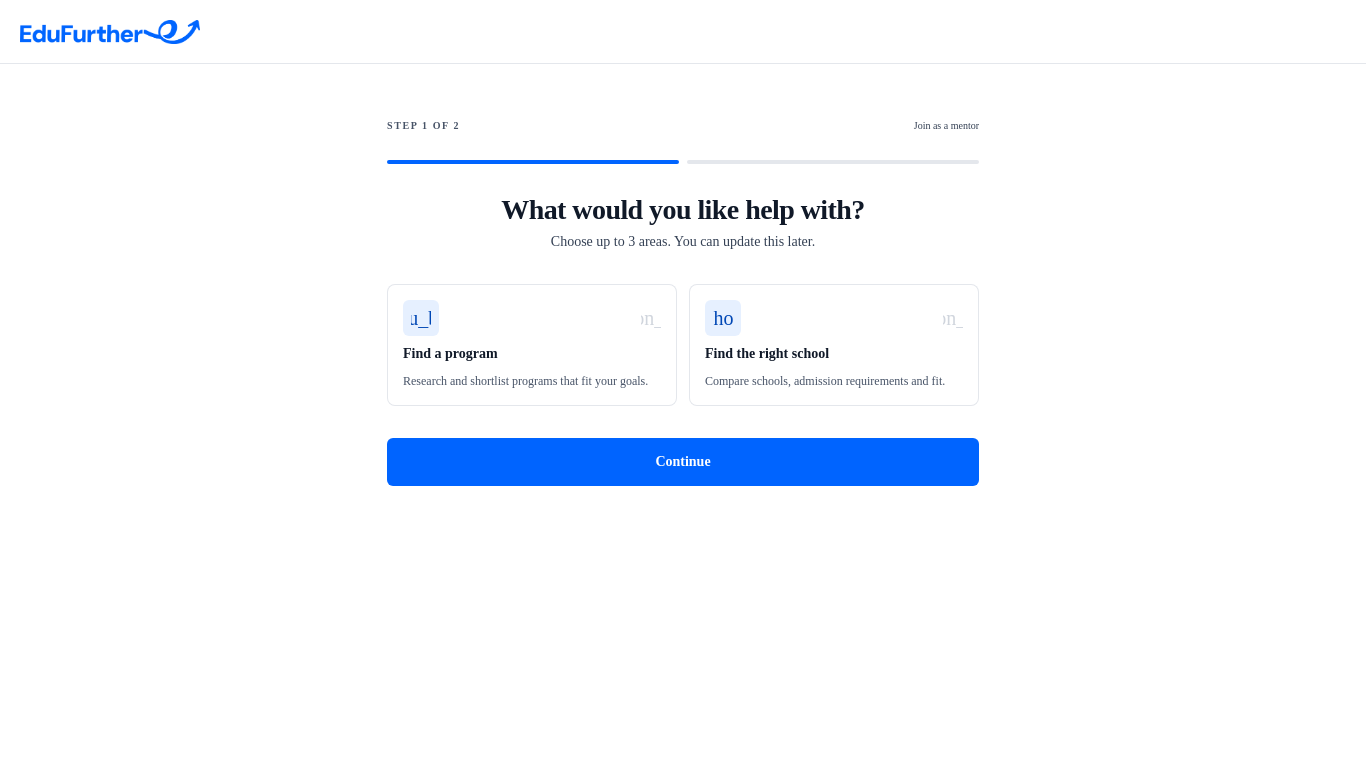
Scenario: OnboardingScreen: "Join as a mentor" on step 1 (owner, 2026-10-20) › gone on step 2, and still gone back on step 1 once step 1 is saved
Click the button "Find a program" at (421, 318), box [387,284,677,406]
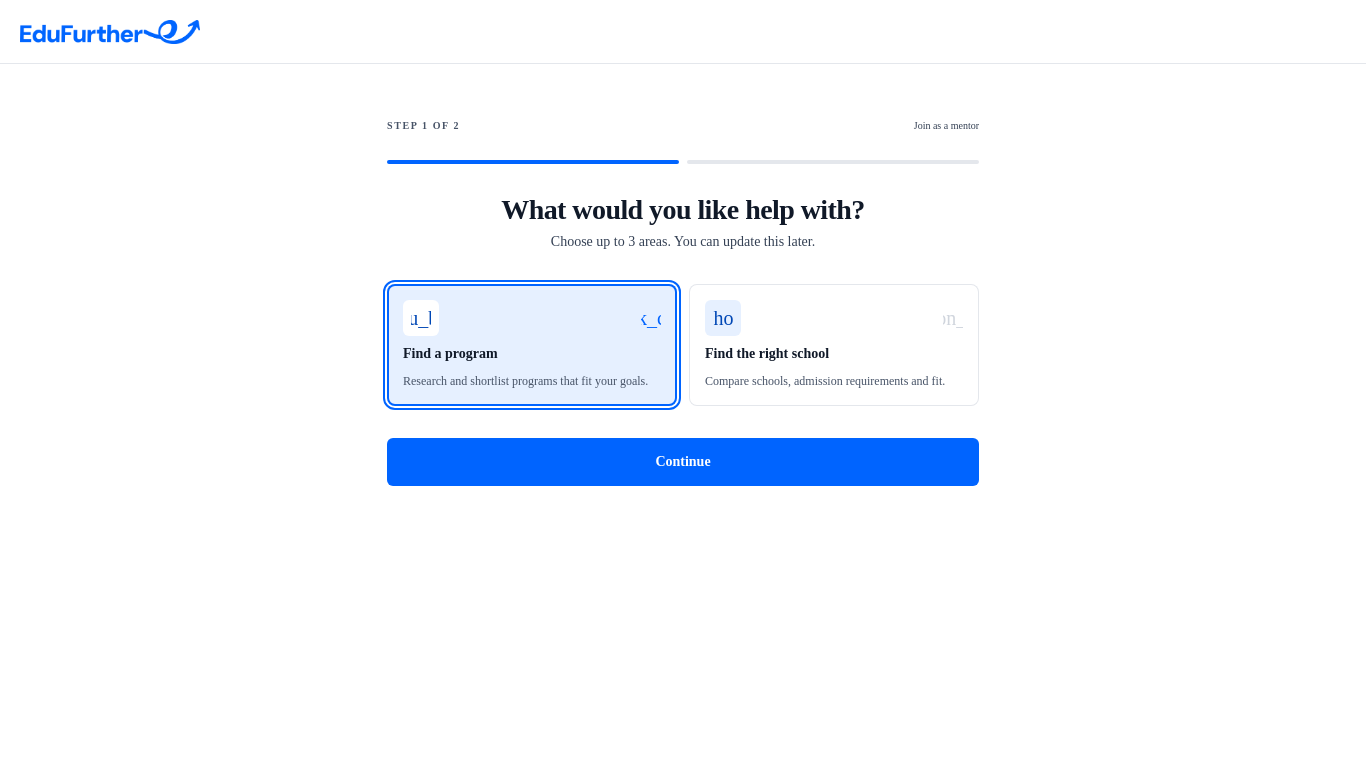
Click the button "Continue" at (683, 462), box [387,438,979,486]
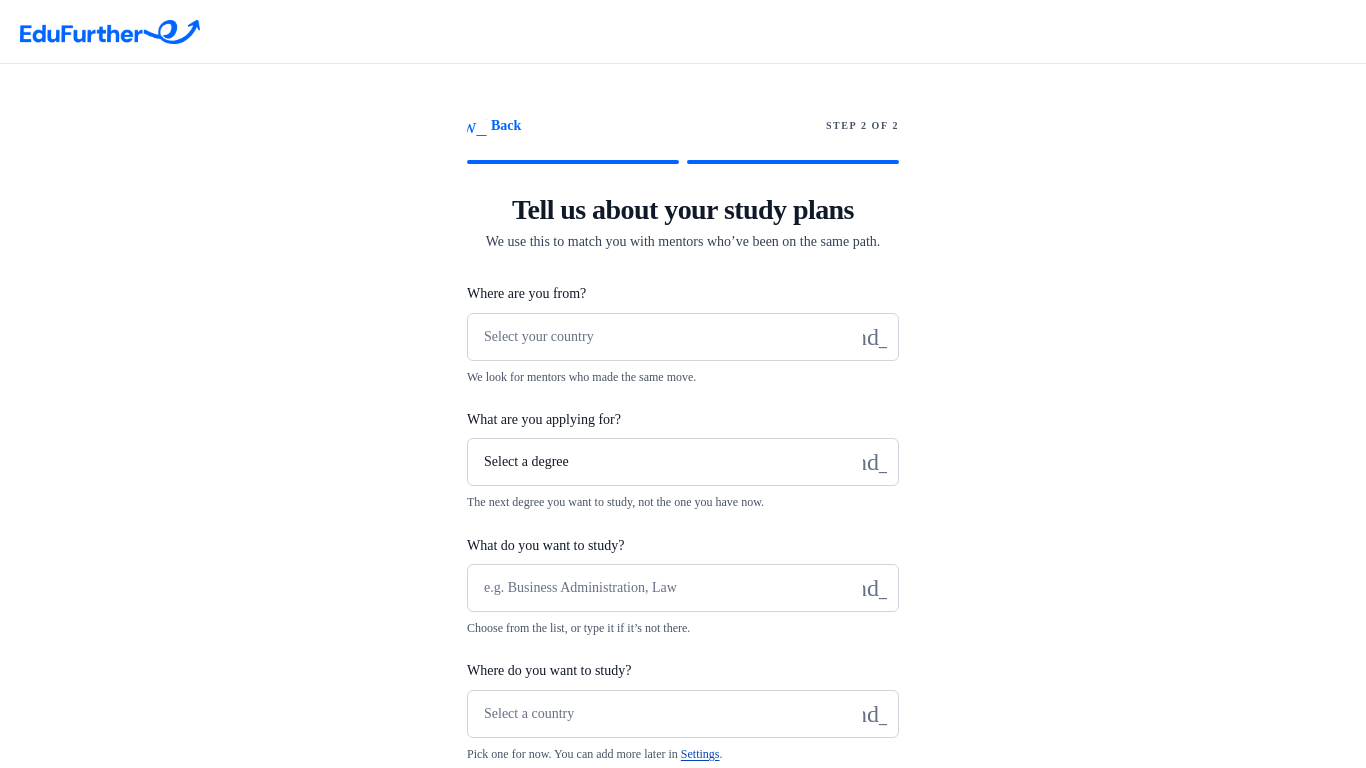
Now the heading "Tell us about your study plans" is shown, box [512,194,854,225]
Now the button "Join as a mentor" is gone
Click the button "arrow_back Back" at (494, 126), box [467,104,521,148]
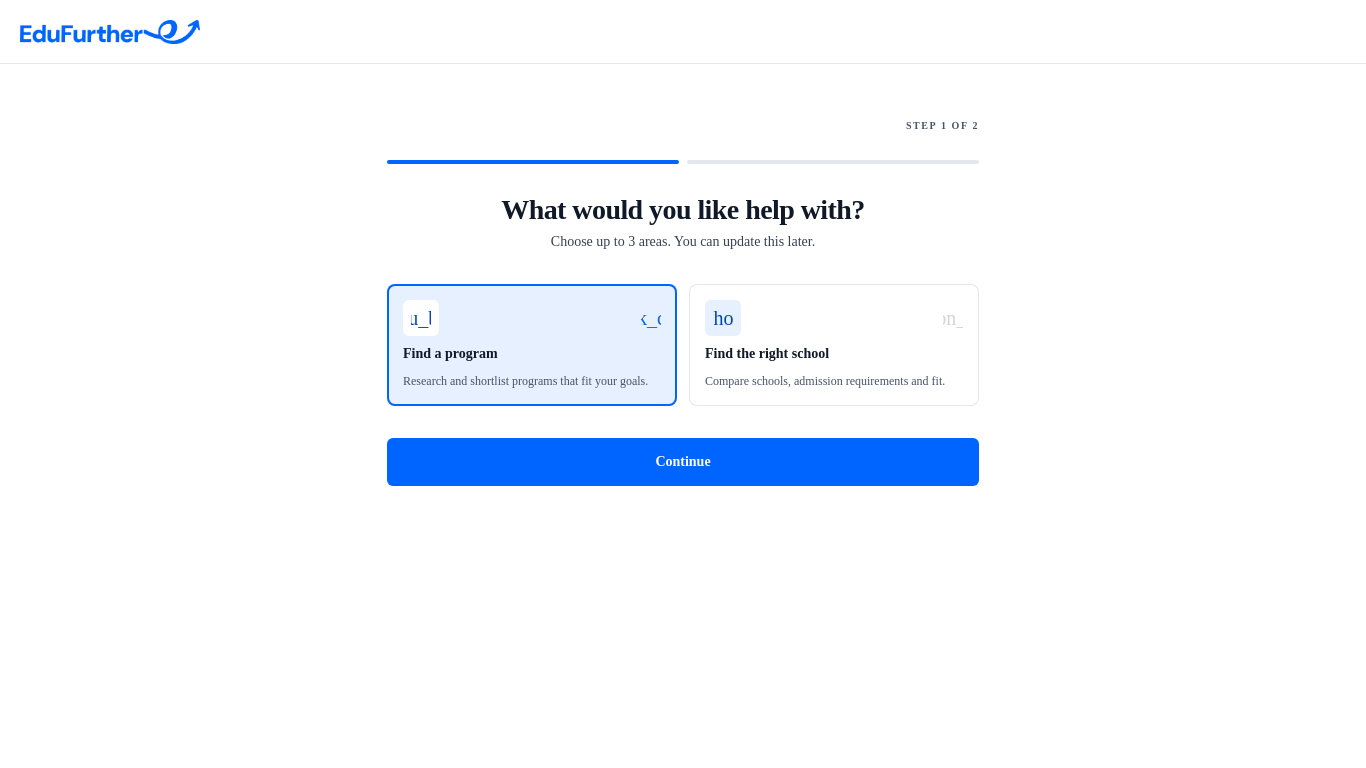
Expected: the button "Join as a mentor" is not shown
Now the text "Step 1 of 2" is shown, box [906,119,979,133]
